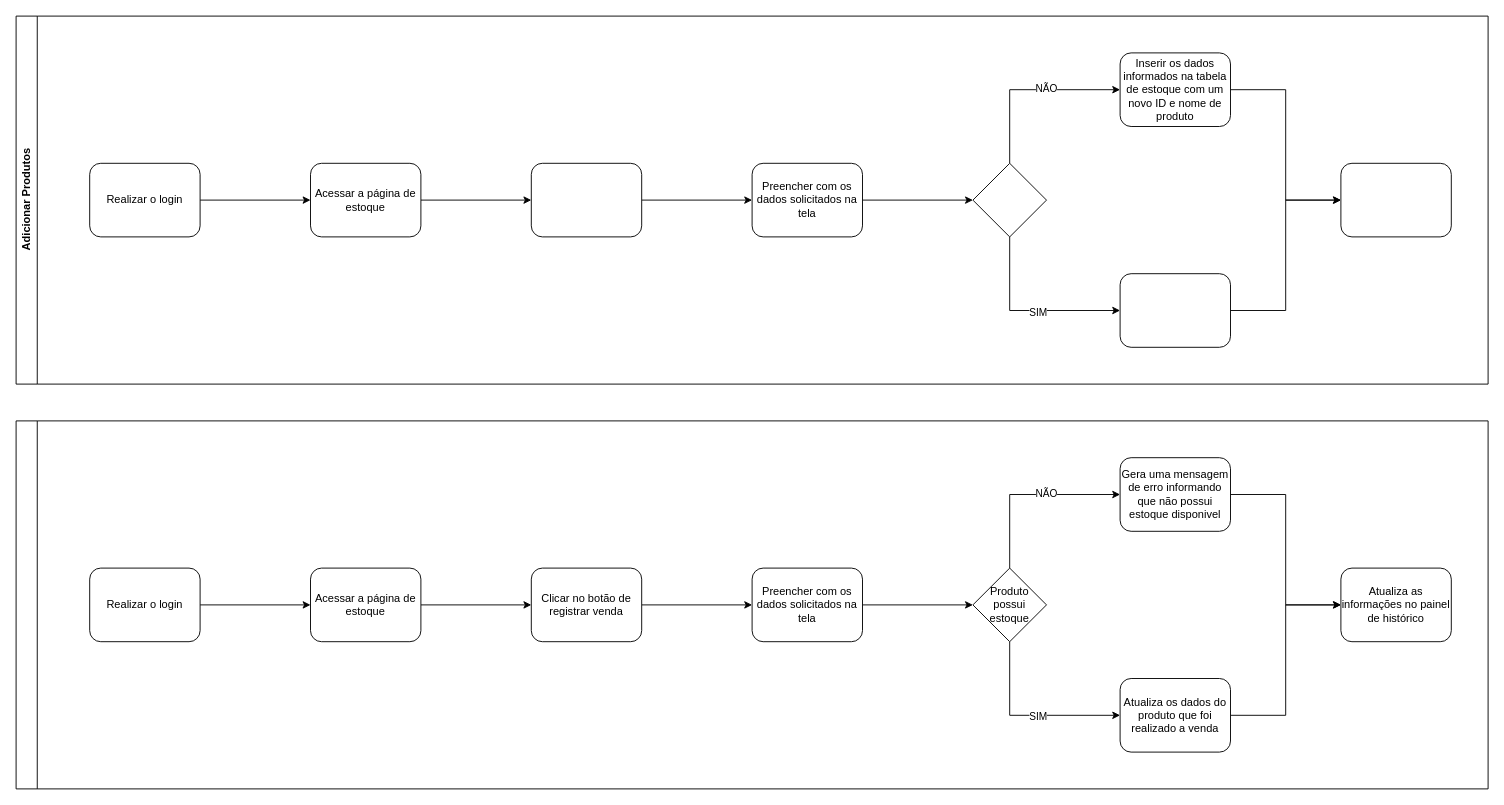
The diagram is 1504 pixels wide and 805 high, and some of its shapes have lost their labels. The centre of each missing label's shape, as x and y in pixels:
"Atualiza as informações no banco de dados" goes at point 1395,199.
"Atualiza os dados do produto ja cadastrado" goes at point 1174,310.
"Clicar no botão de adicionar novo produto" goes at point 586,199.
"Produto já cadastrado" goes at point 1009,199.
"Realizar registro de venda" goes at point 751,604.
